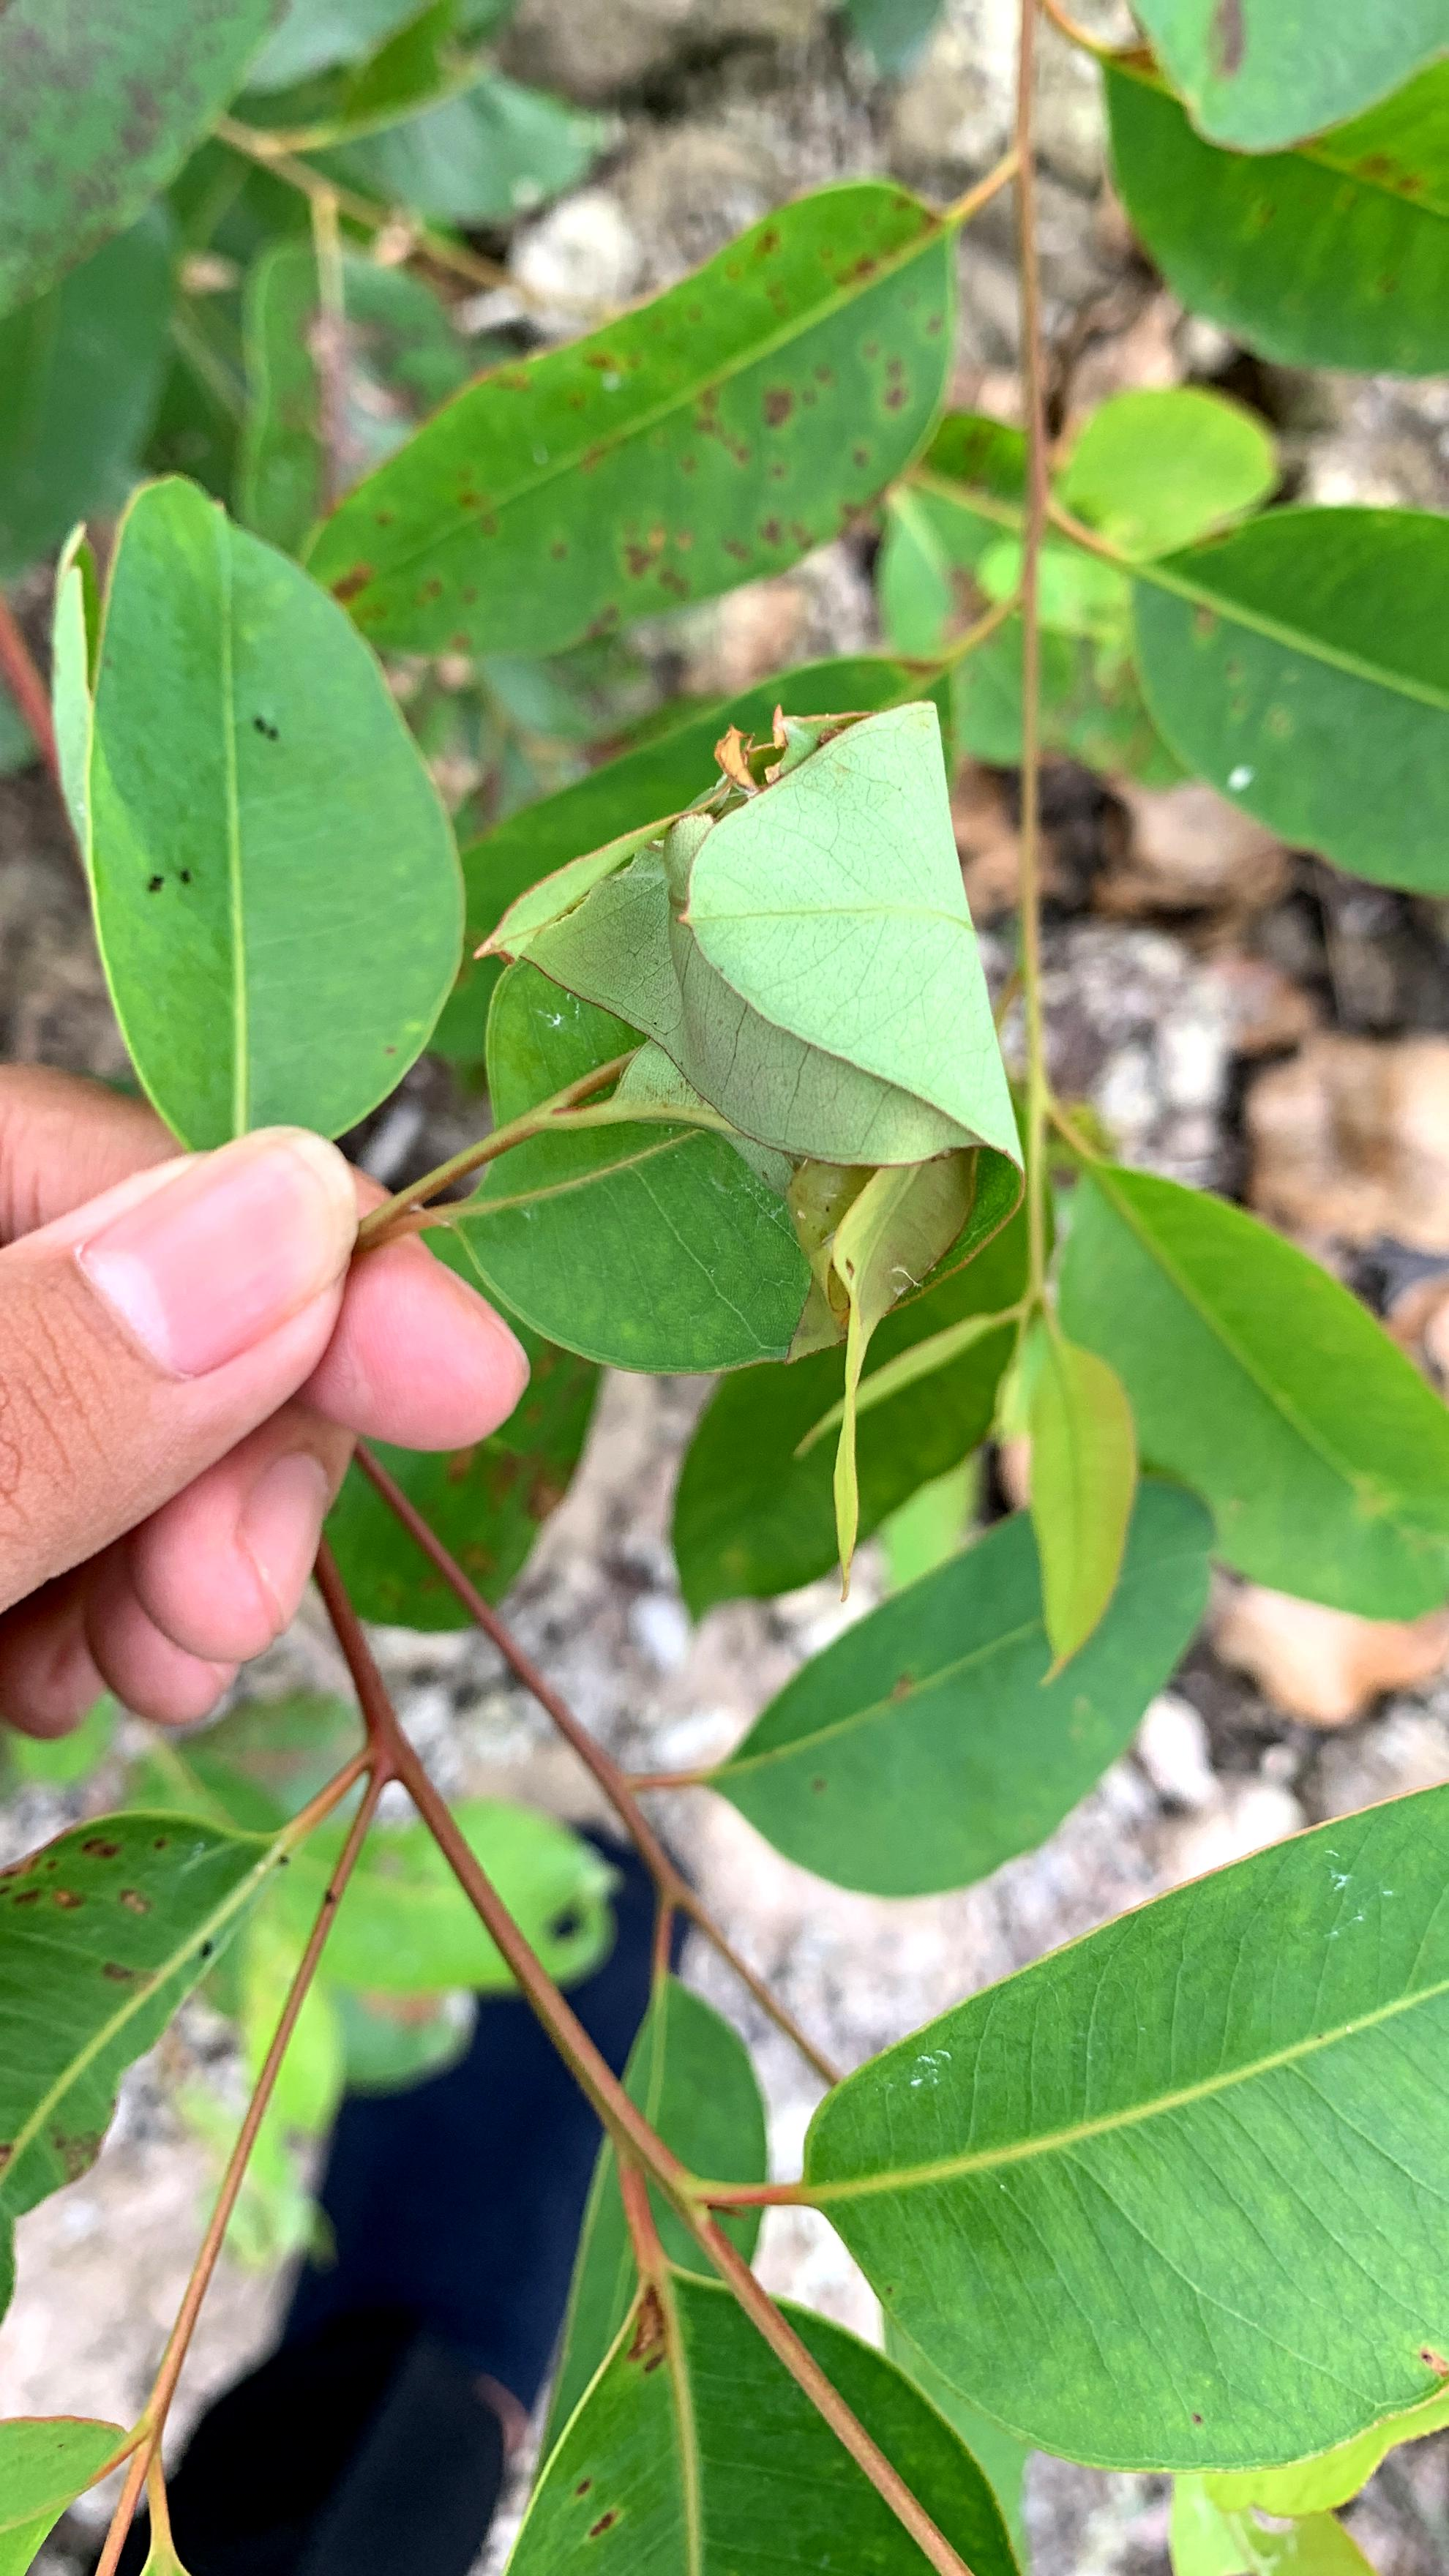Leaf Roller - Leaf: (406, 609, 1099, 1325)
